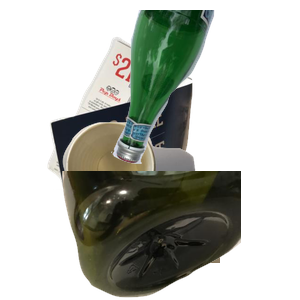glass: (109, 10, 300, 167)
paper: (45, 34, 230, 214)
plastic: (60, 171, 300, 300)
trash: (60, 120, 300, 300)
